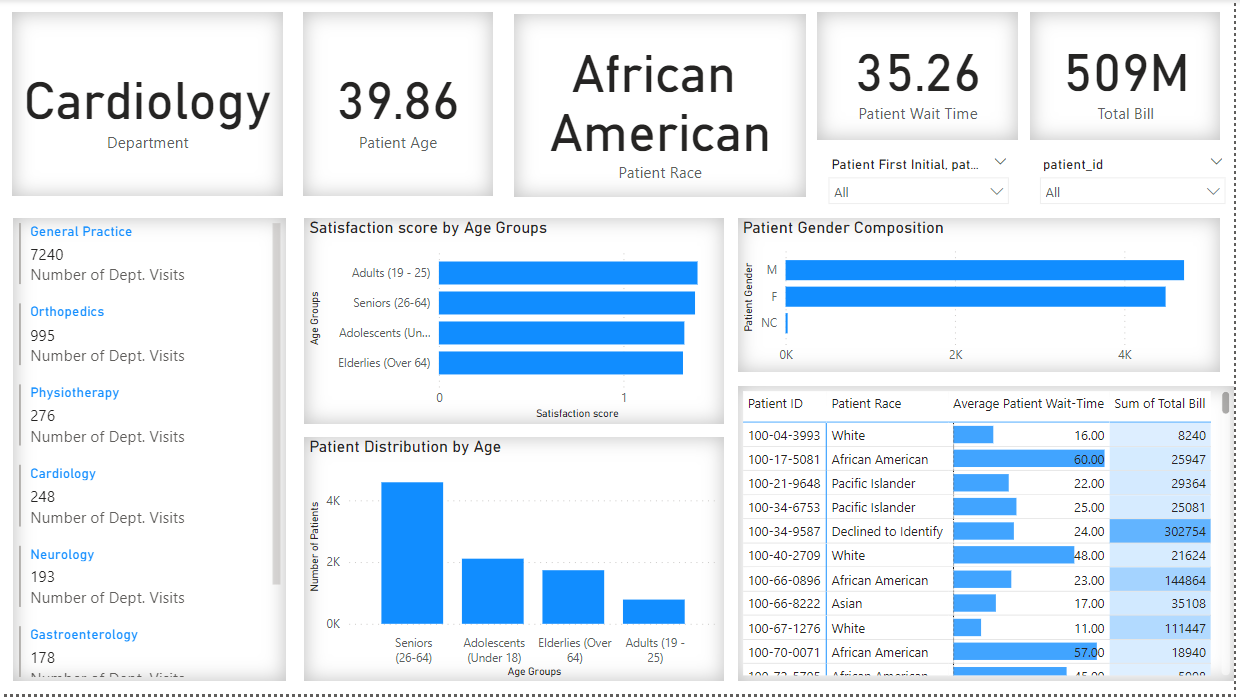

This screenshot's page, from the dashboard's own definition file:
{"tool":"powerbi","page":{"name":"Patients","canvas":[1280,720],"ordinal":2},"visuals":[{"type":"card","fields":{"Values":["Hospital ER.department_referral"]},"box":[12.7,14.3,281,190.5],"z":0},{"type":"slicer","fields":{"Values":["Hospital ER.patient_first_inital","Hospital ER.patient_last_name"]},"box":[848.3,156.7,206.7,70],"z":1000},{"type":"card","fields":{"Values":["Hospital ER.patient_waittime"]},"box":[847.6,14.3,207.9,131.7],"z":2000},{"type":"card","fields":{"Values":["Hospital ER.patient_age"]},"box":[314.3,14.3,196.8,190.5],"z":3000},{"type":"card","fields":{"Values":["Hospital ER.patient_race"]},"box":[533.3,15,301.7,190],"z":4000},{"type":"card","fields":{"Values":["Patient Info.Total Bill"]},"box":[1068.3,14.3,196.8,131.7],"z":5000},{"type":"slicer","fields":{"Values":["Hospital ER.patient_id"]},"box":[1068.3,156.7,211.7,70],"z":6000},{"type":"columnChart","title":"Patient Distribution by Age","fields":{"Category":["Hospital ER.patient_age (groups)"],"Y":["Hospital ER.patient_id"]},"box":[315,453.3,435,253.3],"z":7000},{"type":"multiRowCard","fields":{"Values":["Patient Info.department_referral","Hospital ER.patient_id"]},"box":[13.3,226.7,281.7,480],"z":8000},{"type":"pivotTable","fields":{"Values":["Hospital ER.patient_race","Hospital ER.patient_waittime","Patient Info.Total Bill"],"Rows":["Hospital ER.patient_id"]},"box":[765,401.7,515,305],"z":9000},{"type":"clusteredBarChart","title":"Patient Gender Composition","fields":{"Category":["Hospital ER.patient_gender"],"Y":["Hospital ER.patient_id"]},"box":[765.1,227,500,160.3],"z":10000},{"type":"clusteredBarChart","fields":{"Category":["Hospital ER.patient_age (groups)"],"Y":["Hospital ER.patient_sat_score"]},"box":[315,226.7,435,213.3],"z":11000}]}

Visuals, with their boxes in screenshot pixels (x1, y1, x2, y2), scaled from the page's 1280x720 canvas onto the 1240x699 screenshot:
card - Hospital ER.department_referral: select_region(12, 14, 285, 199)
slicer - Hospital ER.patient_first_inital x Hospital ER.patient_last_name: select_region(822, 152, 1022, 220)
card - Hospital ER.patient_waittime: select_region(821, 14, 1023, 142)
card - Hospital ER.patient_age: select_region(304, 14, 495, 199)
card - Hospital ER.patient_race: select_region(517, 15, 809, 199)
card - Patient Info.Total Bill: select_region(1035, 14, 1226, 142)
slicer - Hospital ER.patient_id: select_region(1035, 152, 1239, 220)
"Patient Distribution by Age" columnChart: select_region(305, 440, 727, 686)
multiRowCard - Patient Info.department_referral x Hospital ER.patient_id: select_region(13, 220, 286, 686)
pivotTable - Hospital ER.patient_race x Hospital ER.patient_waittime: select_region(741, 390, 1239, 686)
"Patient Gender Composition" clusteredBarChart: select_region(741, 220, 1226, 376)
clusteredBarChart - Hospital ER.patient_age (groups) x Hospital ER.patient_sat_score: select_region(305, 220, 727, 427)
